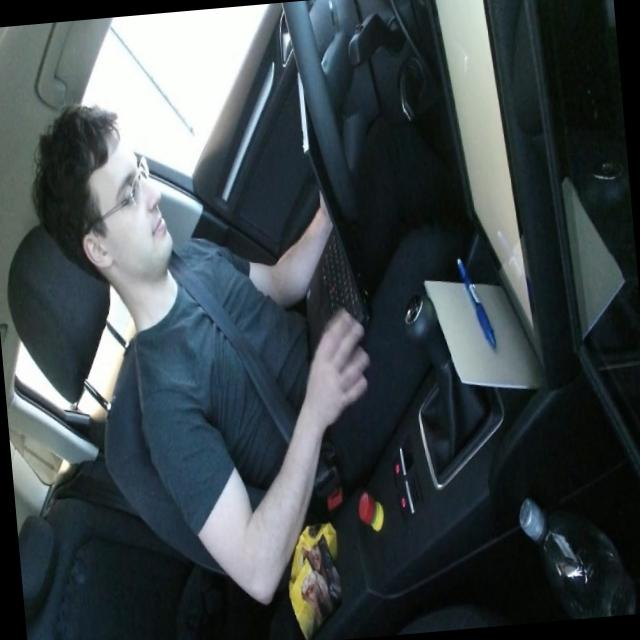pen: (455, 252, 497, 352)
